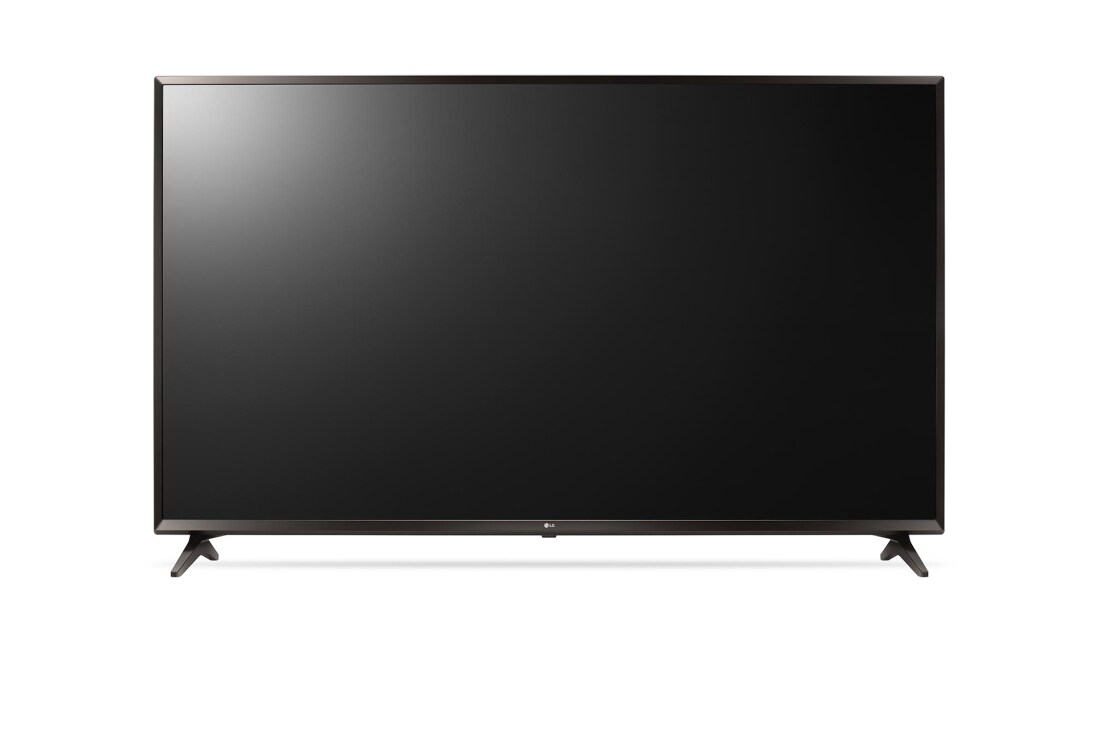tv: (106, 67, 975, 594)
